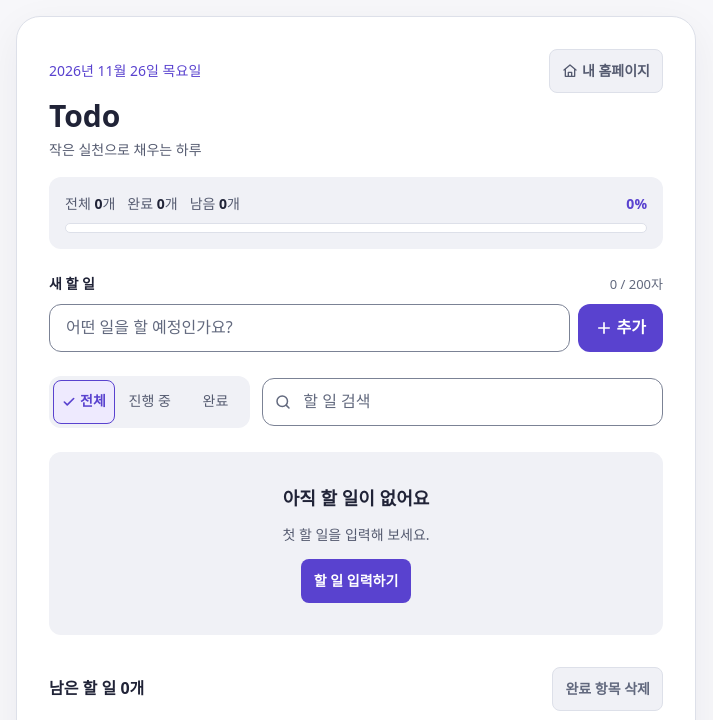
Scenario: TodoList 앱 통합 테스트 › 할 일을 추가하면 앞뒤 공백을 제거하고 최신 항목을 맨 위에 표시하며 입력창 포커스를 유지한다
Type "   첫 번째 할 일   " into the field labelled "새 할 일" at (309, 328), box x1=49 y1=304 x2=570 y2=352
Then press Enter
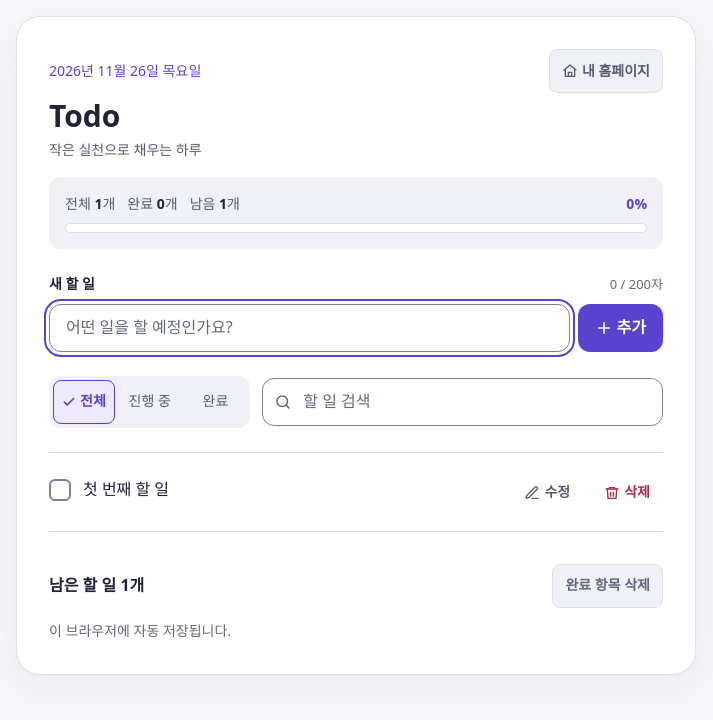
Type "두 번째 할 일" into the field labelled "새 할 일" at (309, 328), box x1=49 y1=304 x2=570 y2=352
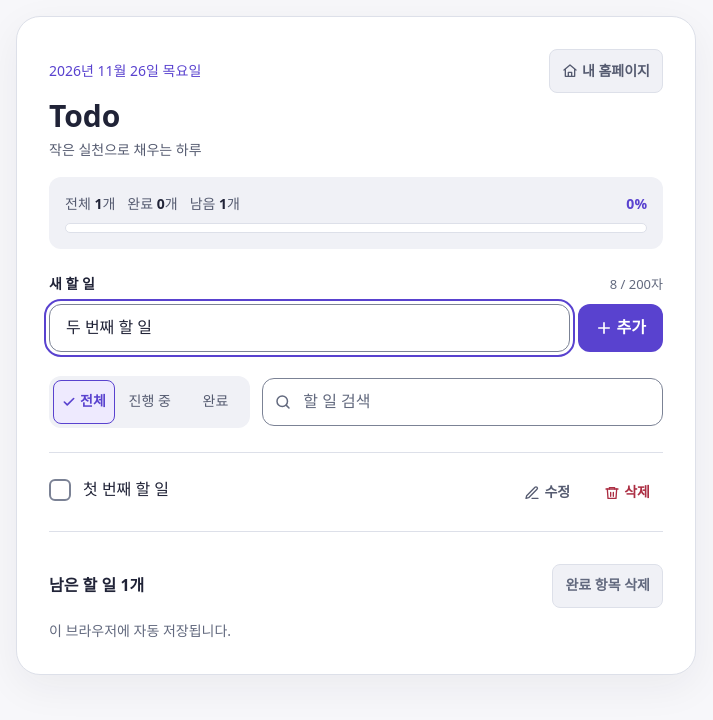
Click the button "추가" at (620, 328), box x1=578 y1=304 x2=663 y2=352
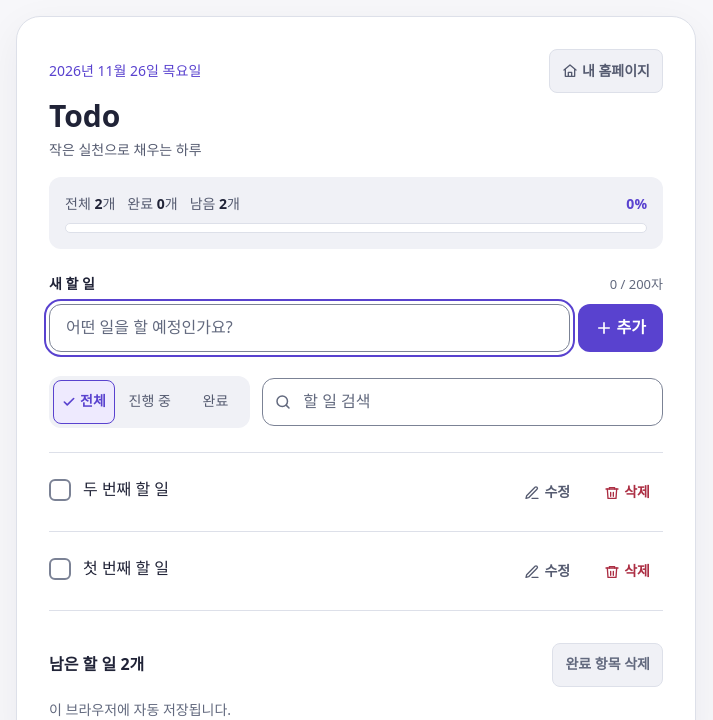
Check: the text "첫 번째 할 일" is shown, box x1=83 y1=557 x2=169 y2=579
Check: the number of list items is 2, box x1=49 y1=453 x2=663 y2=532; x1=49 y1=532 x2=663 y2=611
Check: the text "두 번째 할 일" is shown, box x1=83 y1=478 x2=169 y2=500
